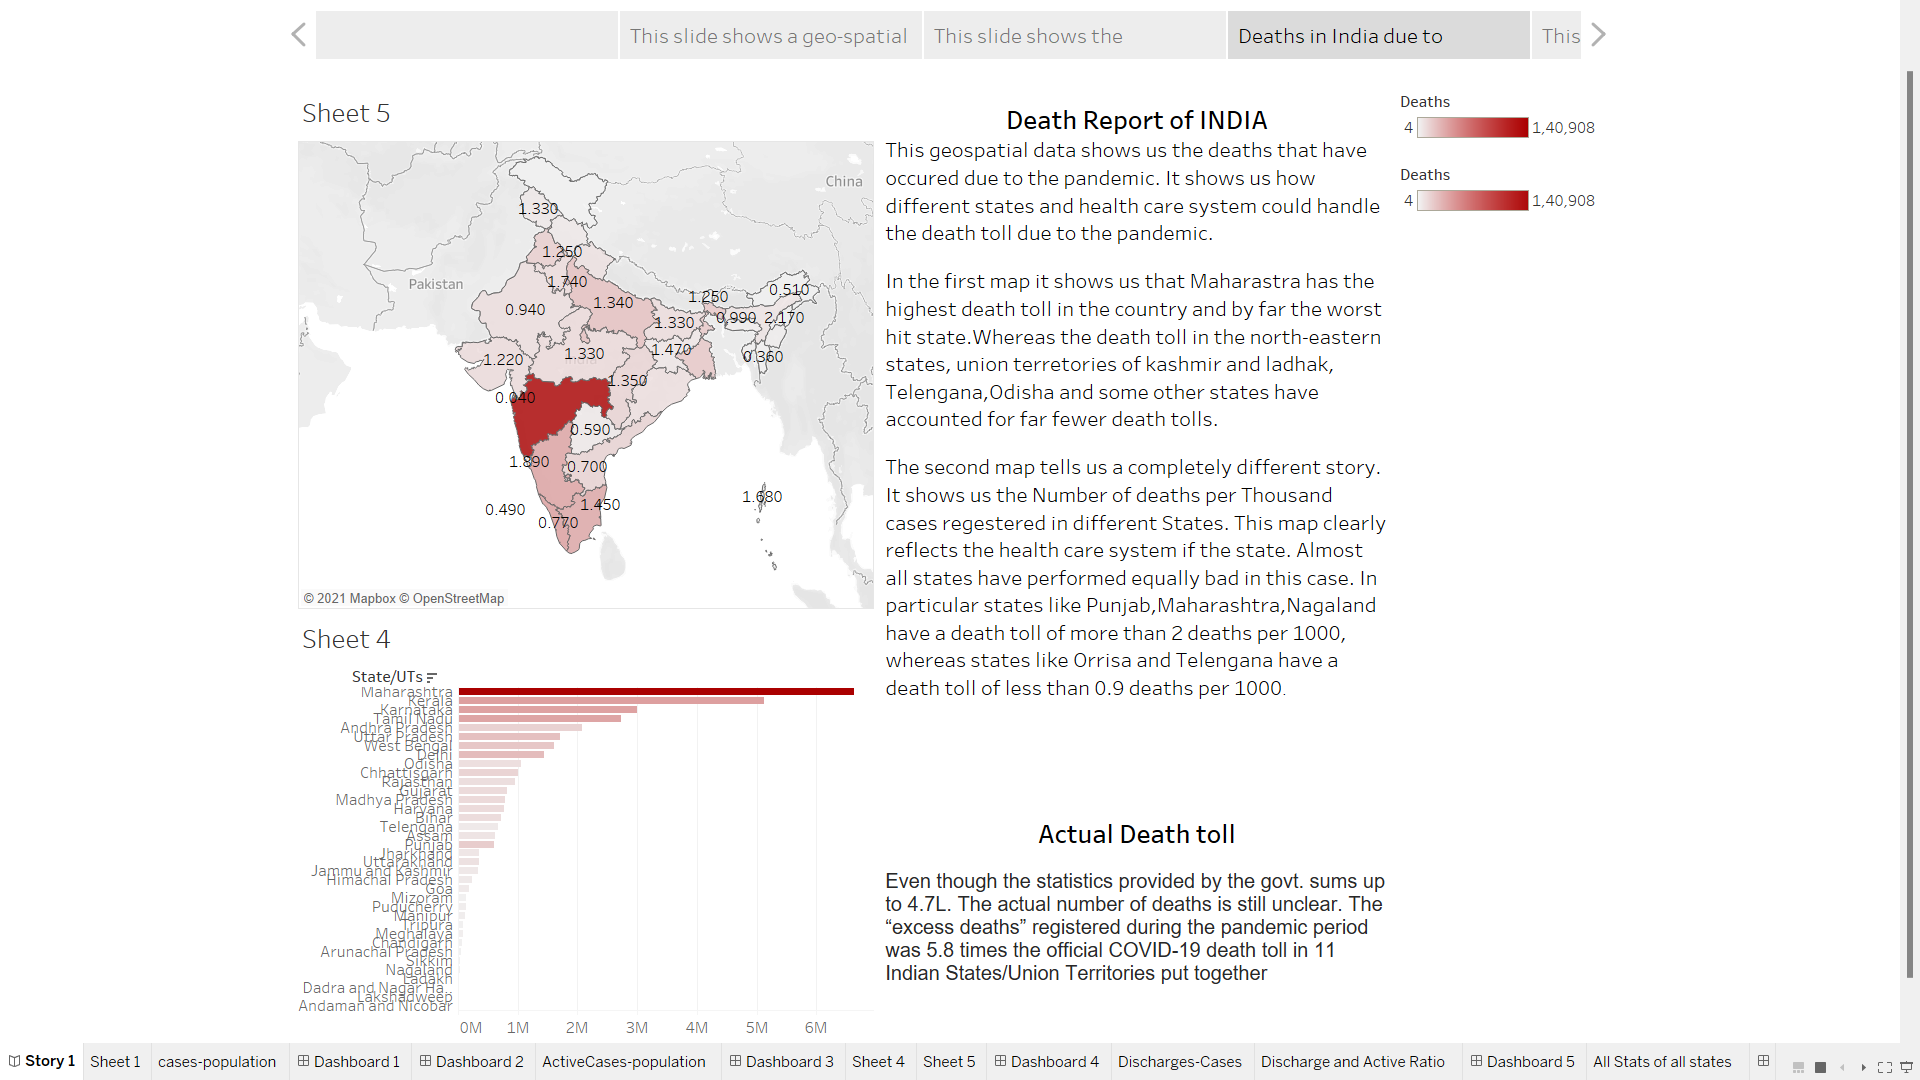

This screenshot's page, from the dashboard's own definition file:
{"tool":"tableau","page":{"name":"Dashboard 4","canvas":[1000,1000],"units":"permille","ordinal":3},"visuals":[{"type":"worksheet","title":"Sheet 5","mark":"Automatic","box":[4.9,9.4,440.9,521.7]},{"type":"text","box":[445.8,9.4,391.6,632.2]},{"type":"legend","title":"Sheet 4","param":"[federated.0qp4arw0ty7htq17ph0xu04r5b4q].[sum:Deaths:qk]","box":[837.4,9.4,126.7,85.8]},{"type":"legend","title":"Sheet 5","param":"[federated.0qp4arw0ty7htq17ph0xu04r5b4q].[sum:Deaths:qk]","box":[837.4,95.2,126.7,85.8]},{"type":"worksheet","title":"Sheet 4","mark":"Automatic","rows":["State/UTs"],"cols":["Total Cases"],"box":[4.9,531.1,440.9,459.5]},{"type":"text","box":[445.8,641.6,391.6,349]}]}

Visuals, with their boxes on the dashboard's canvas, which has no fixed pixel size, in thousandths of its width and height (x1, y1, x2, y2). These are canvas units, not pixel positions in the 1920x1080 screenshot, which may show the page scaled, cropped or inside an application window:
"Sheet 5" worksheet: BBox(5, 9, 446, 531)
text: BBox(446, 9, 837, 642)
"Sheet 4" legend: BBox(837, 9, 964, 95)
"Sheet 5" legend: BBox(837, 95, 964, 181)
"Sheet 4" worksheet: BBox(5, 531, 446, 991)
text: BBox(446, 642, 837, 991)
